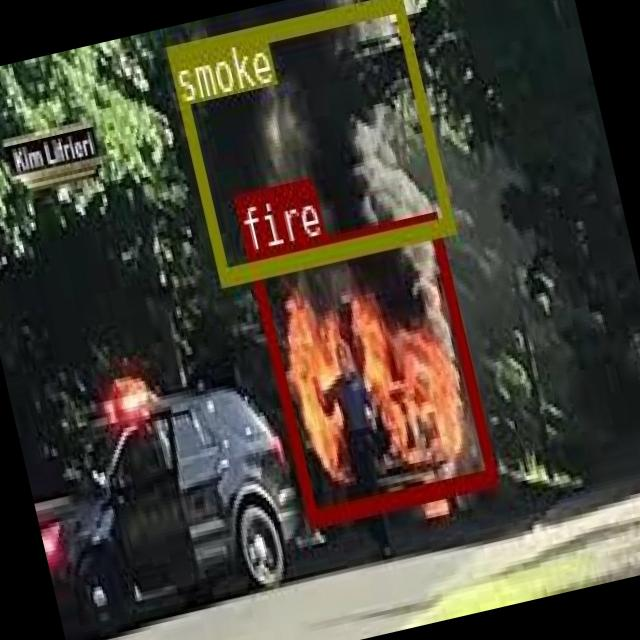fire: (244, 211, 496, 526)
smoke: (164, 0, 453, 282)
